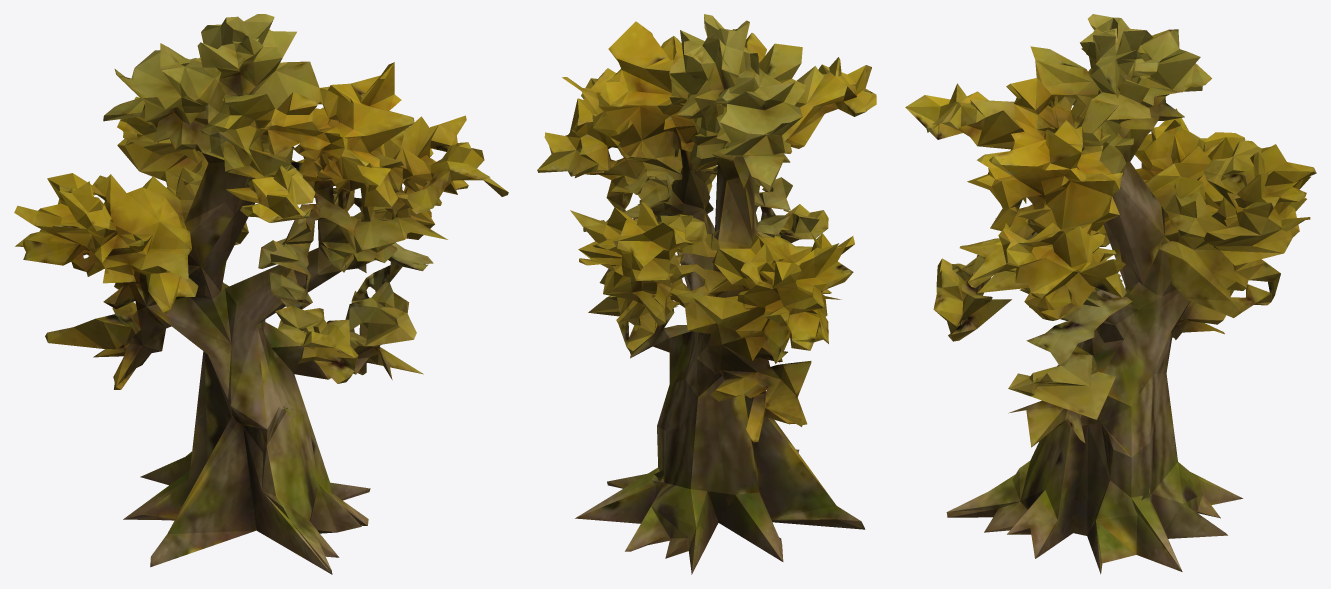
The model's file is oak.glb.
The picture shows the model from 3 angles, left to right: view 1: azimuth 30°, elevation 25°; view 2: azimuth 150°, elevation 25°; view 3: azimuth 270°, elevation 25°; orthographic projection.
Visible parts, largest first — view 1: geometry_0; view 2: geometry_0; view 3: geometry_0.
Part boxes in pixels (x1,y1,x2,y2): geometry_0: (14, 14, 508, 574); geometry_0: (537, 14, 876, 574); geometry_0: (905, 14, 1316, 574).
Bounding box in the file's own units: 0.7501 × 0.9993 × 0.7524.
Materials: 1 (1 with a texture image).
